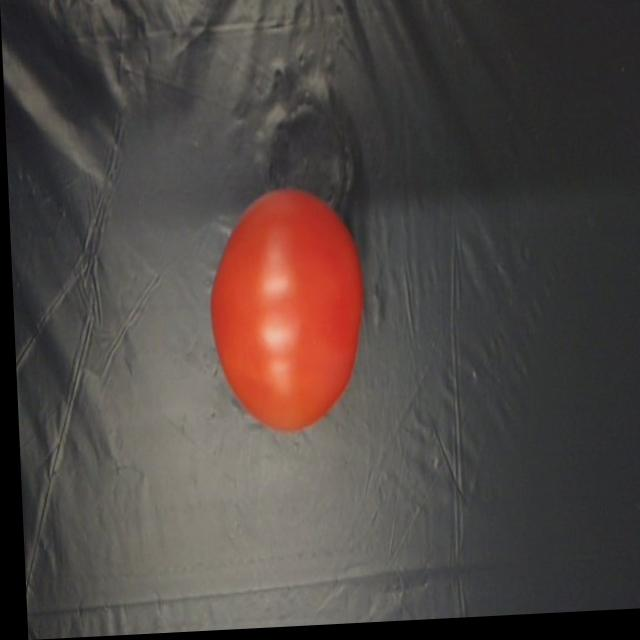kirmizi: (208, 166, 371, 441)
